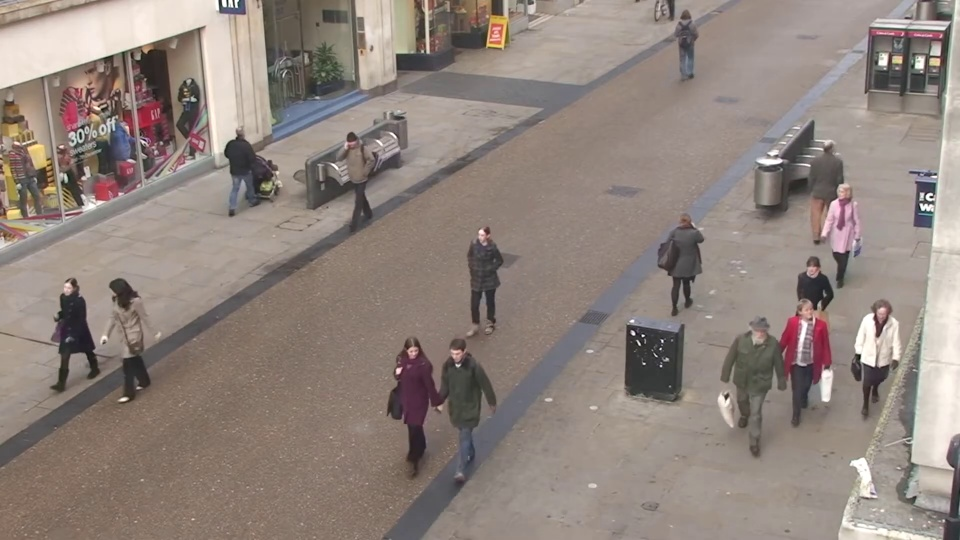pedestrian: (845, 300, 903, 447), (36, 274, 98, 409), (384, 337, 438, 489), (85, 279, 145, 415), (734, 319, 788, 469), (429, 344, 481, 497), (769, 295, 821, 438), (781, 258, 830, 392), (457, 227, 499, 353), (816, 181, 860, 295), (667, 204, 707, 324), (811, 135, 851, 237), (330, 132, 366, 231), (232, 116, 268, 210), (674, 8, 698, 74)
